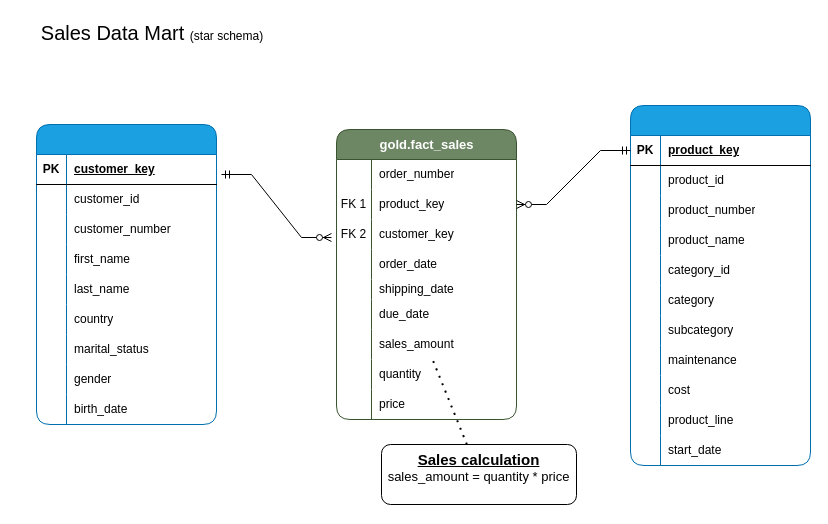
This 828x524 diagram has some shape labels left out. Here are the shapes that lost their labels. From the top down, the box of each, then its label:
(36, 124, 216, 424): gold.dim_customers
(630, 104, 810, 466): gold.dim_products
